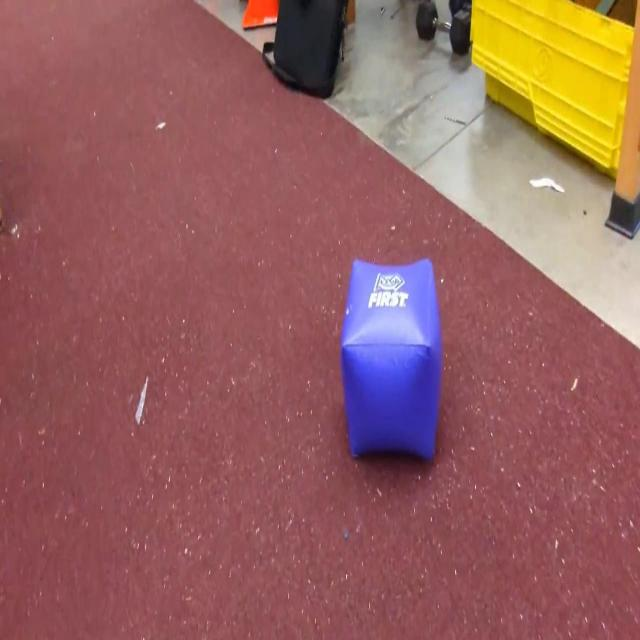frc_cube: (339, 257, 443, 464)
